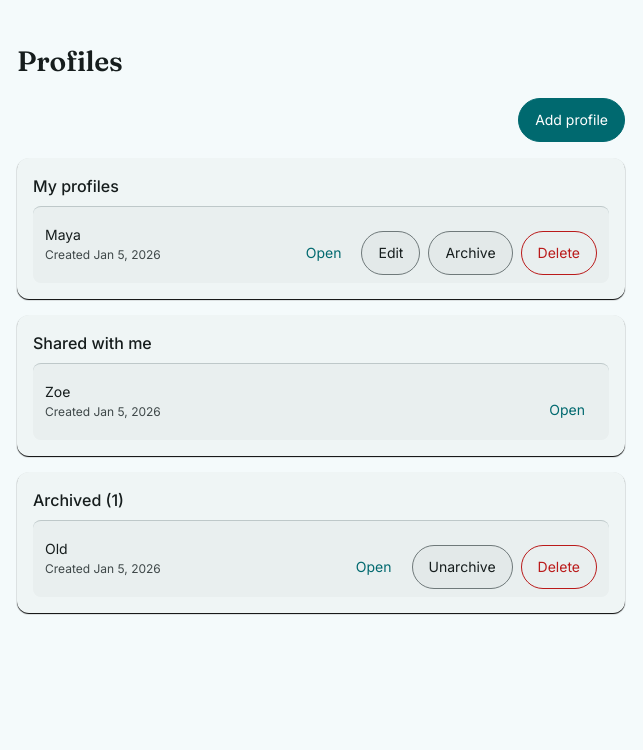
Scenario: ProfilesPage (issue #1253) › validates the create form before pushing anything
The width and height of the screenshot is (643, 750).
Click the button "Add profile" at (572, 120), box [518, 98, 625, 142]
(page scrolled)
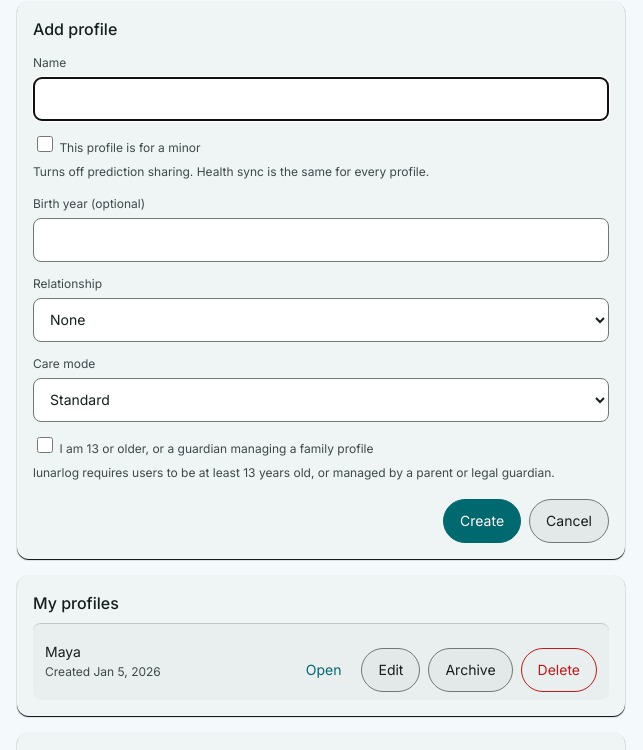
Submit the form from the button "Create", box [443, 498, 521, 542]
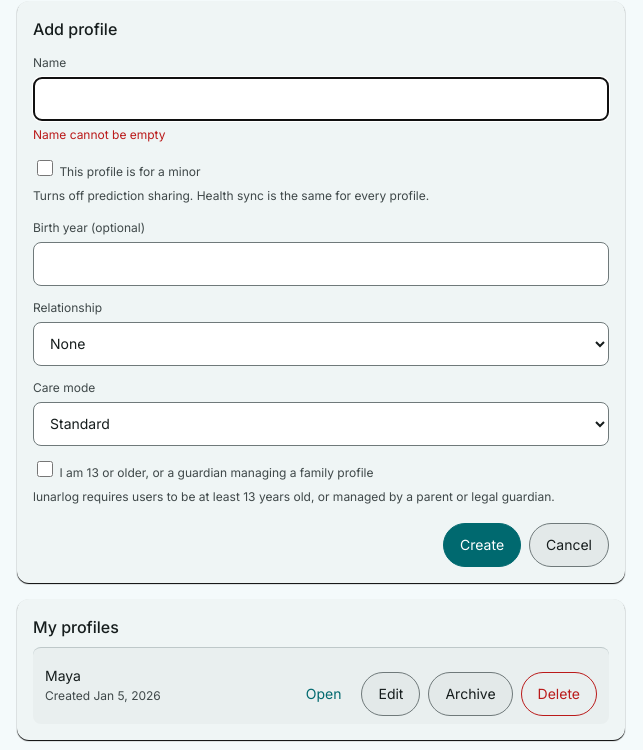
Expected: the text "Name cannot be empty" is shown, [33, 126, 166, 142]
